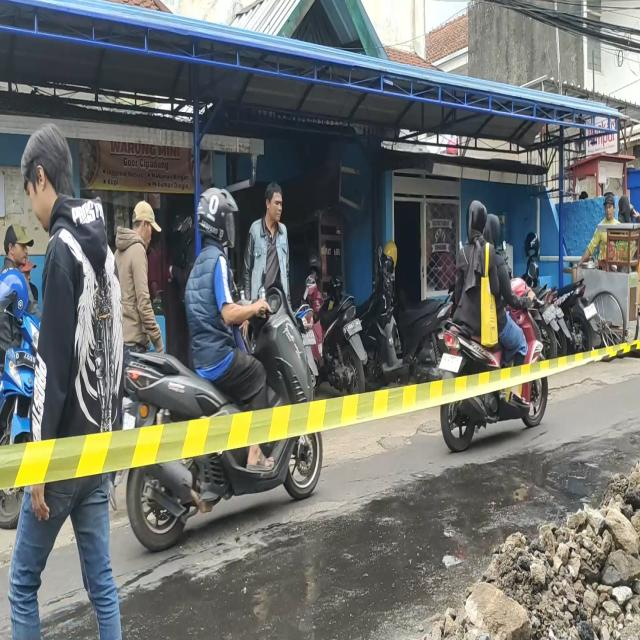helmet: (200, 187, 233, 244)
no-helmet: (468, 200, 485, 233), (488, 215, 500, 246)
